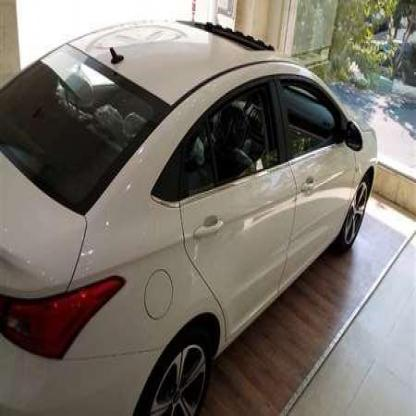Car: (0, 19, 380, 416)
